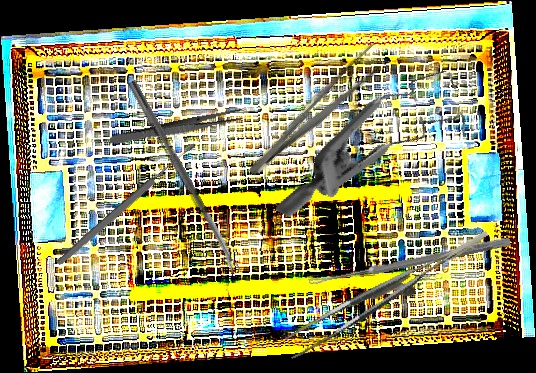Dressing Forceps: (241, 39, 390, 184), (109, 107, 244, 149)
Speculum: (274, 30, 487, 269)
Surgical Spoon: (126, 79, 241, 275), (54, 140, 199, 268), (308, 235, 511, 289)
Tissue Forceps: (274, 230, 504, 360)
